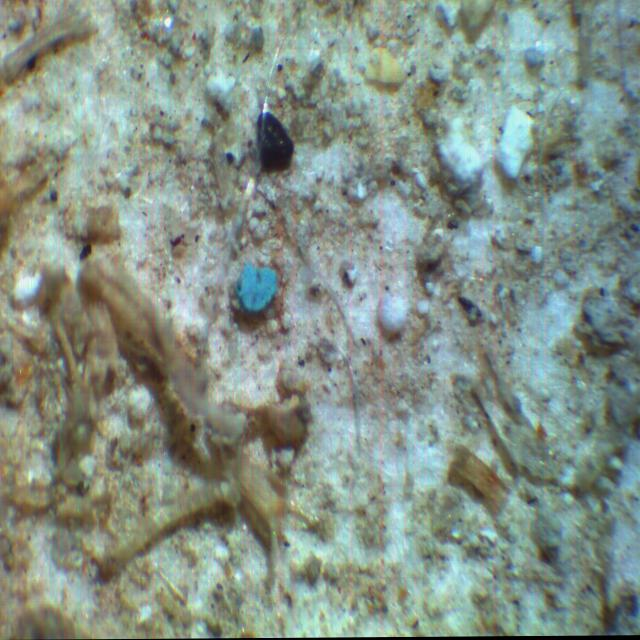microplastic: (234, 262, 278, 314)
